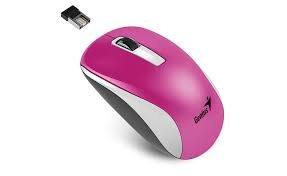mouse: (80, 21, 226, 162)
